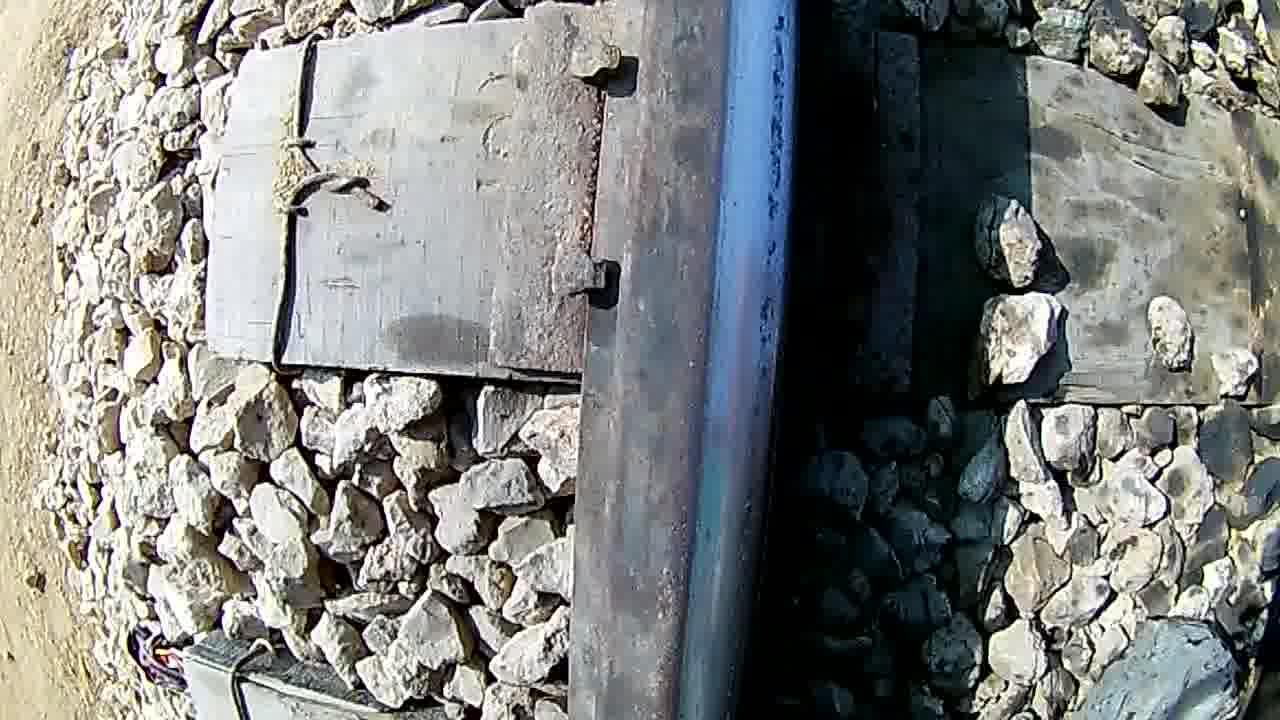crack: (626, 3, 797, 720)
